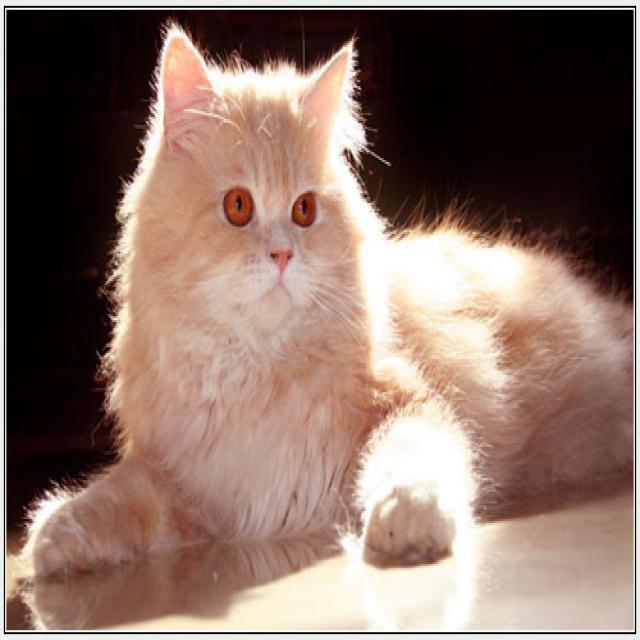Persian: (125, 20, 361, 352)
